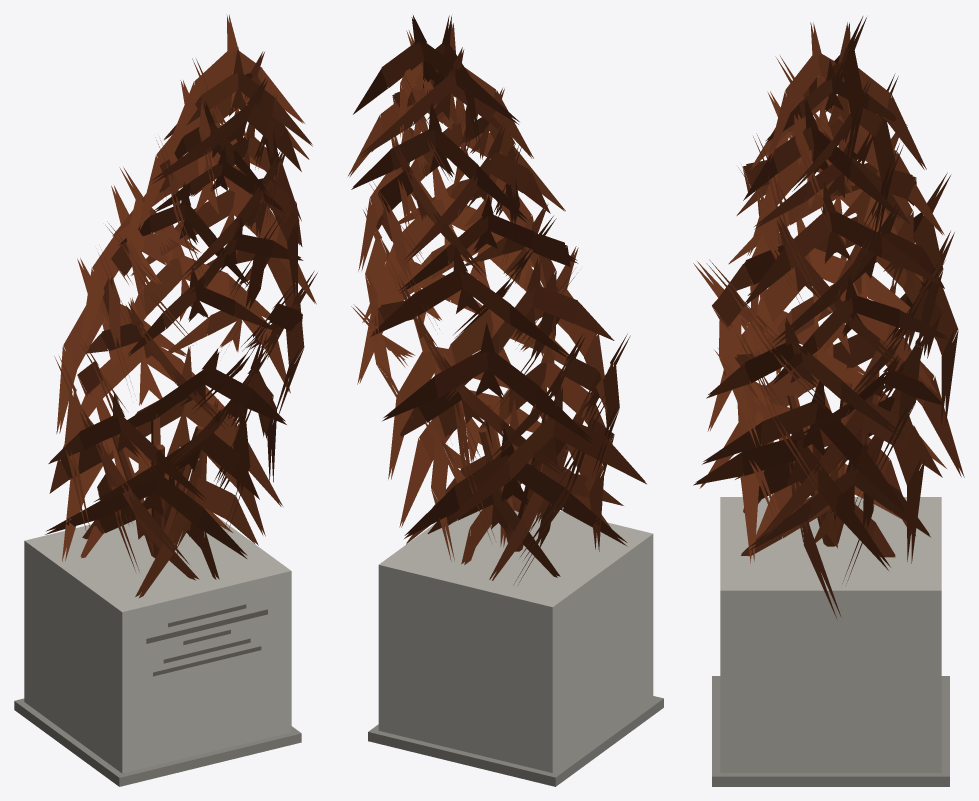
File: free-at-last.glb
The picture shows the model from 3 angles, left to right: view 1: azimuth 30°, elevation 25°; view 2: azimuth 150°, elevation 25°; view 3: azimuth 270°, elevation 25°; orthographic projection. The views are drawn at different scales.
Parts seen in each view (by area): view 1: free-at-last; view 2: free-at-last; view 3: free-at-last.
Boxes of the visible parts, bbox=[...] form: free-at-last: bbox=[14, 14, 317, 786]; free-at-last: bbox=[348, 15, 663, 786]; free-at-last: bbox=[693, 16, 964, 786].
Size of the model in its own units: 2.35 by 5.99 by 1.92.
